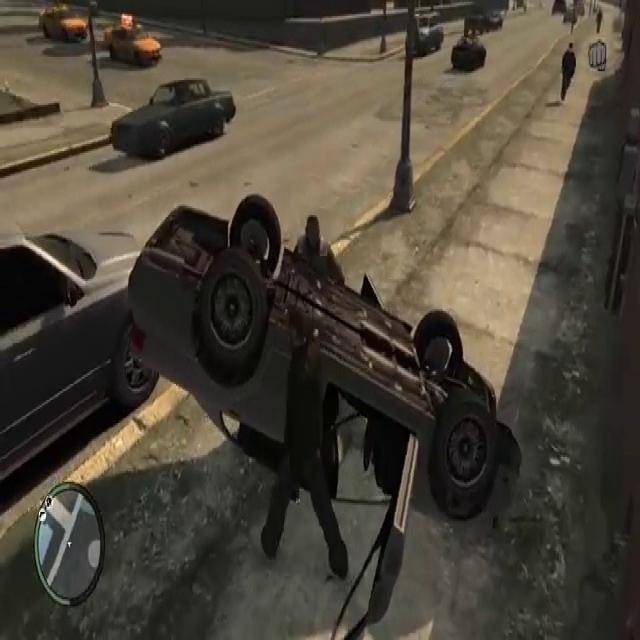moderate: (121, 181, 522, 640)
